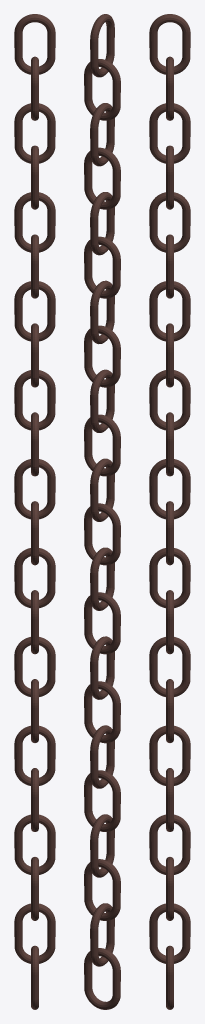
Rendered from Chains.fbx.
3 views of the same model, side by side, from view 1: azimuth 90°, elevation 25°; view 2: azimuth 150°, elevation 25°; view 3: azimuth 270°, elevation 25° (orthographic).
Parts seen in each view (by area): view 1: Torus; view 2: Torus; view 3: Torus.
Part boxes in pixels (left/top/right/bottom): Torus: left=14, top=14, right=55, bottom=1009; Torus: left=84, top=14, right=120, bottom=1009; Torus: left=149, top=14, right=190, bottom=1009.
Bounding box in the file's own units: 250 × 6652 × 250.
